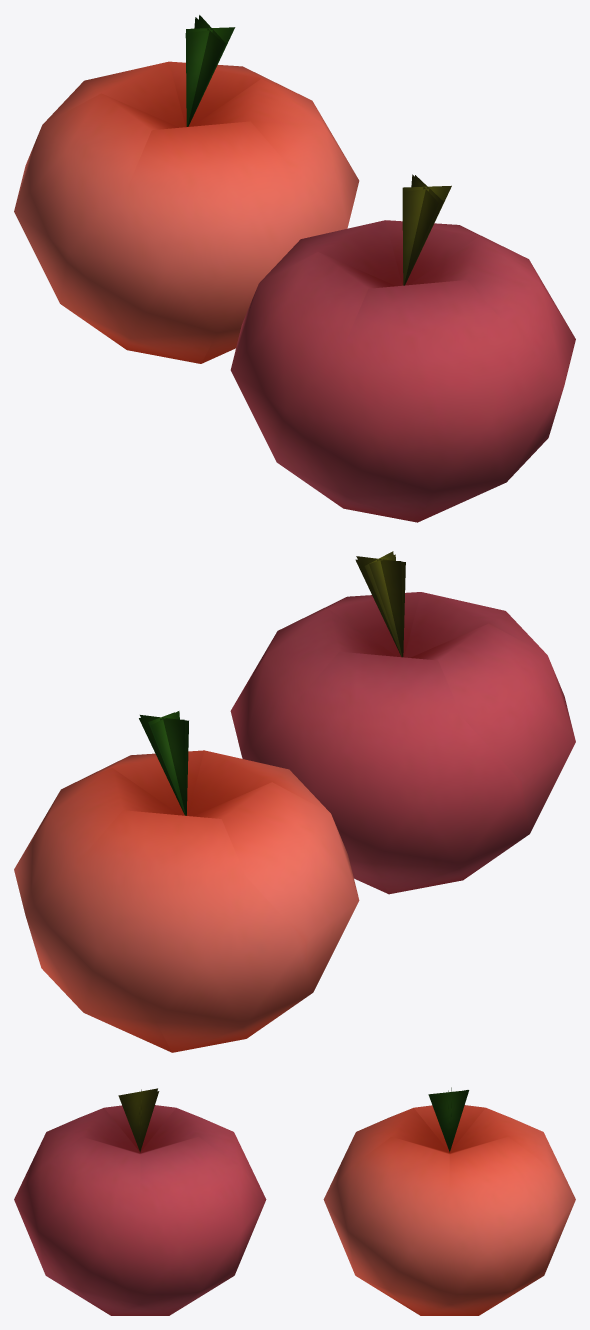
File: saa7zapple.dae
3 renders of one model, top to bottom at view 1: azimuth 30°, elevation 25°; view 2: azimuth 150°, elevation 25°; view 3: azimuth 270°, elevation 25°, orthographic. The views are drawn at different scales.
Visible parts, largest first — view 1: Apple, Apple2; view 2: Apple2, Apple; view 3: Apple, Apple2.
Part boxes in pixels (bbox=[...]): Apple: bbox=[230, 174, 575, 522]; Apple2: bbox=[14, 15, 359, 363]; Apple2: bbox=[14, 711, 359, 1052]; Apple: bbox=[230, 551, 575, 894]; Apple: bbox=[14, 1088, 266, 1315]; Apple2: bbox=[323, 1087, 575, 1315].
Bounding box in the file's own units: 0.7194 × 0.7219 × 1.68.
